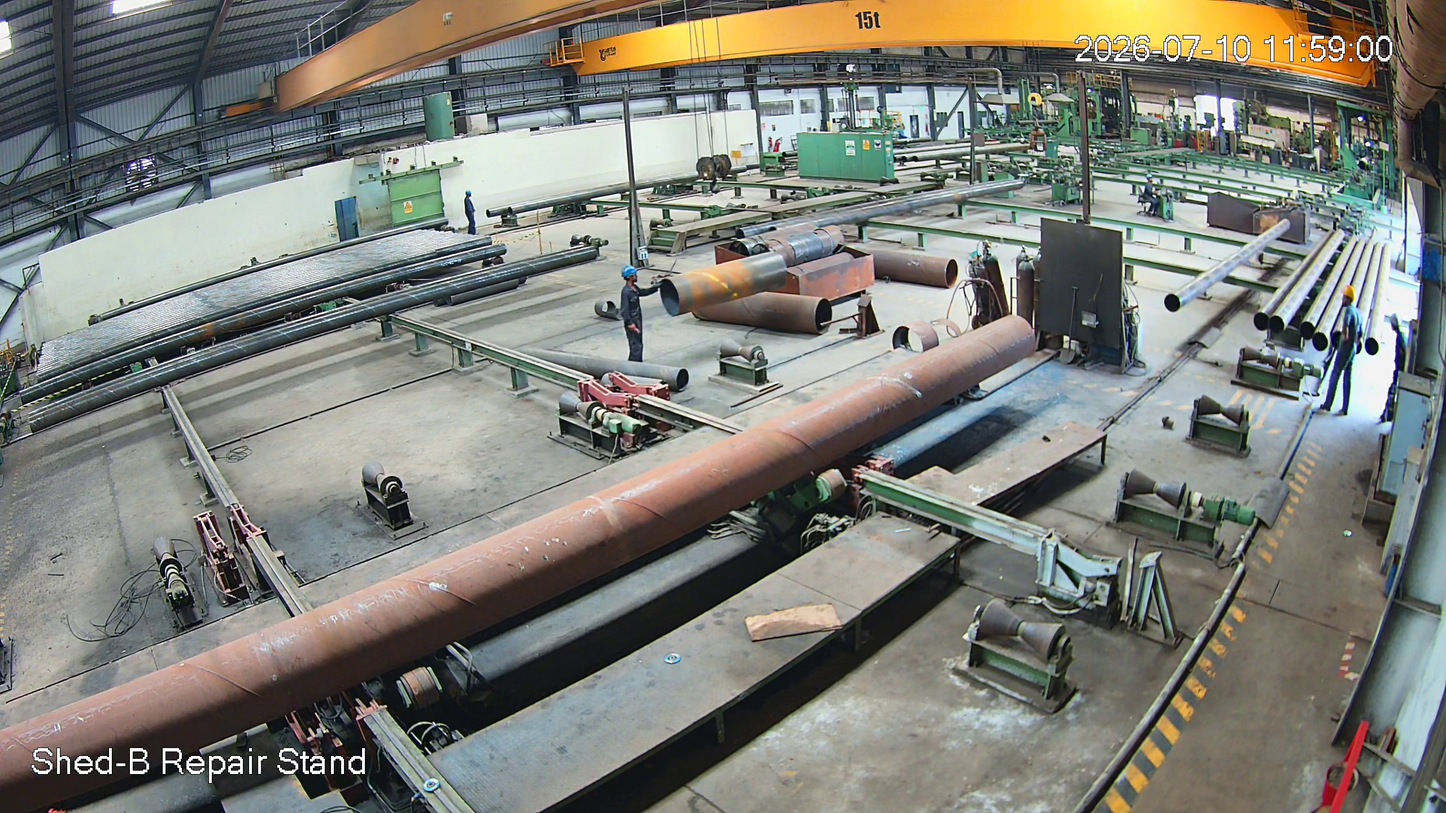Helmet: (1335, 281, 1359, 315), (618, 263, 646, 291), (462, 189, 474, 202)
Person: (1325, 284, 1362, 428), (613, 265, 651, 361), (460, 190, 480, 237)
